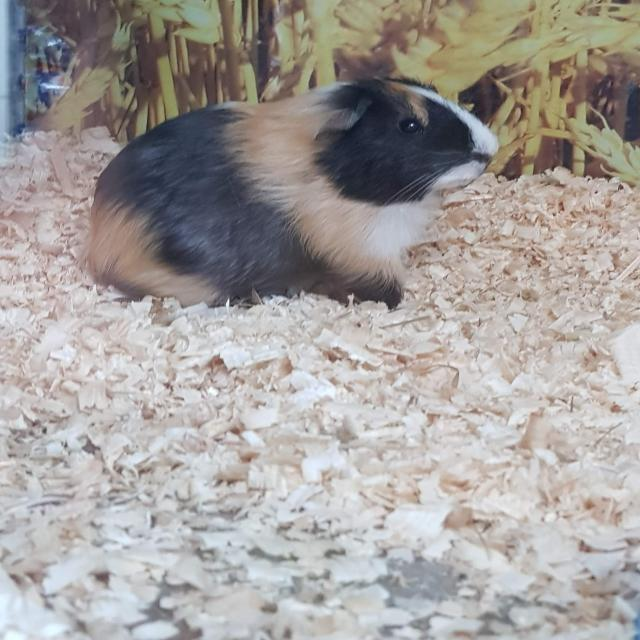guinea pig: (86, 74, 502, 312)
